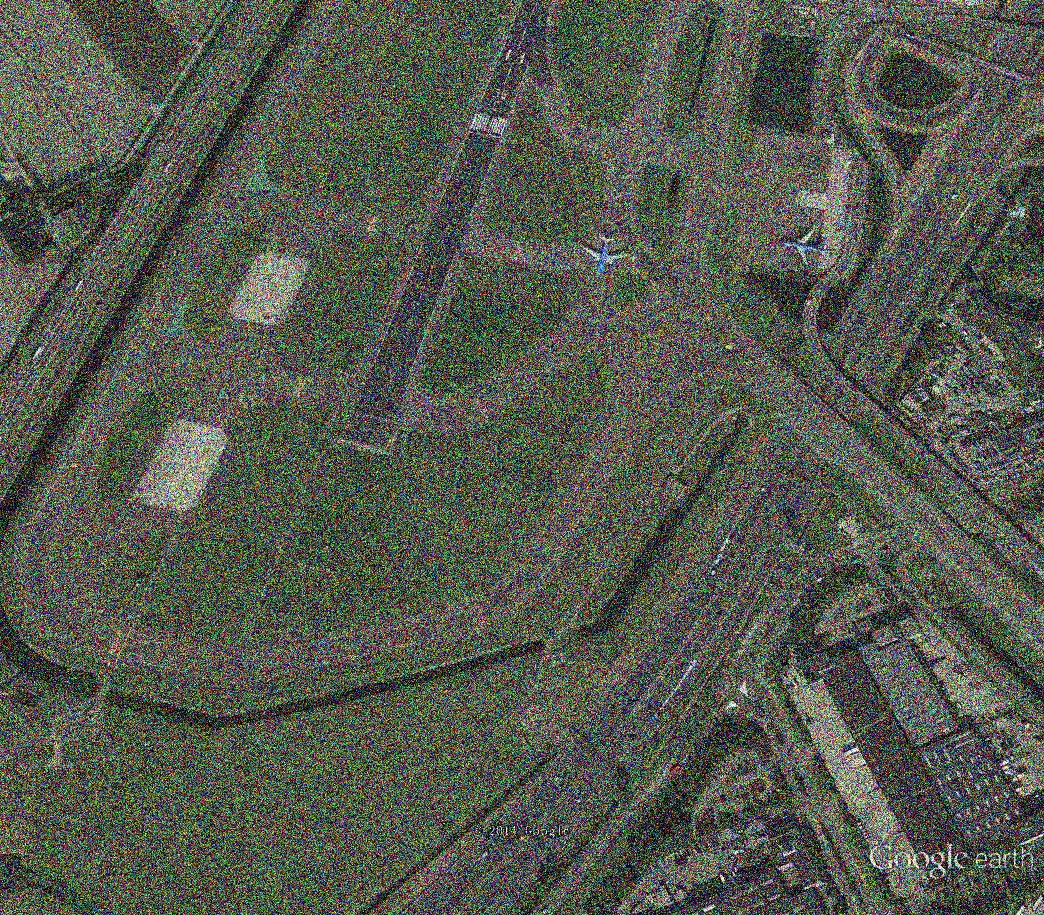aircraft: (576, 230, 634, 283), (777, 225, 834, 271)
